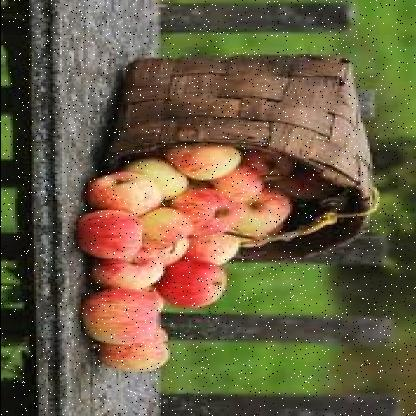apple: (80, 290, 160, 343), (86, 246, 164, 290), (162, 258, 230, 304), (80, 208, 141, 258), (90, 172, 160, 214), (174, 187, 235, 235), (235, 188, 294, 235), (101, 334, 174, 370), (136, 206, 192, 251), (136, 159, 198, 199), (176, 138, 240, 176), (186, 228, 242, 264)
